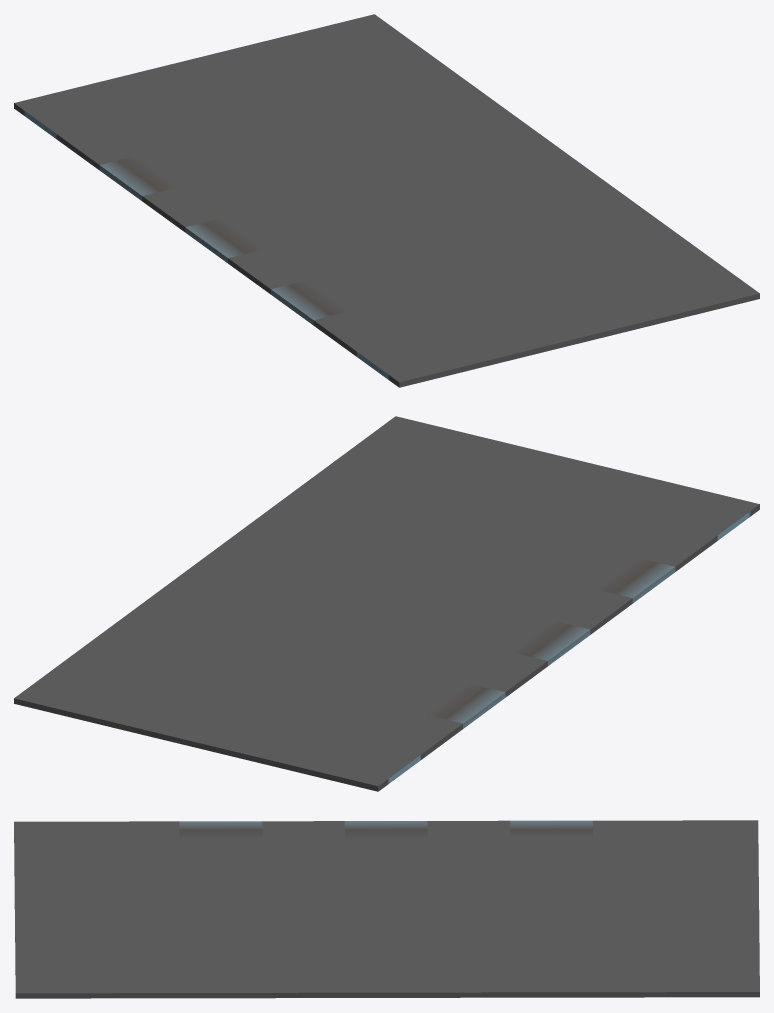
Rendered from Office2_carpet.fbx.
The picture shows the model from 3 angles, top to bottom: view 1: azimuth 30°, elevation 25°; view 2: azimuth 150°, elevation 25°; view 3: azimuth 270°, elevation 25°; orthographic projection. The views are drawn at different scales.
Visible parts, largest first — view 1: Office2_carpet; view 2: Office2_carpet; view 3: Office2_carpet.
Boxes of the visible parts, x1,y1,x2,y2 form: Office2_carpet: [14, 14, 759, 387]; Office2_carpet: [14, 416, 759, 791]; Office2_carpet: [14, 820, 759, 998].
Bounding box in the file's own units: 145 × 2.07 × 265.
